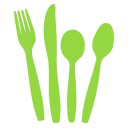fork: (8, 8, 46, 128)
